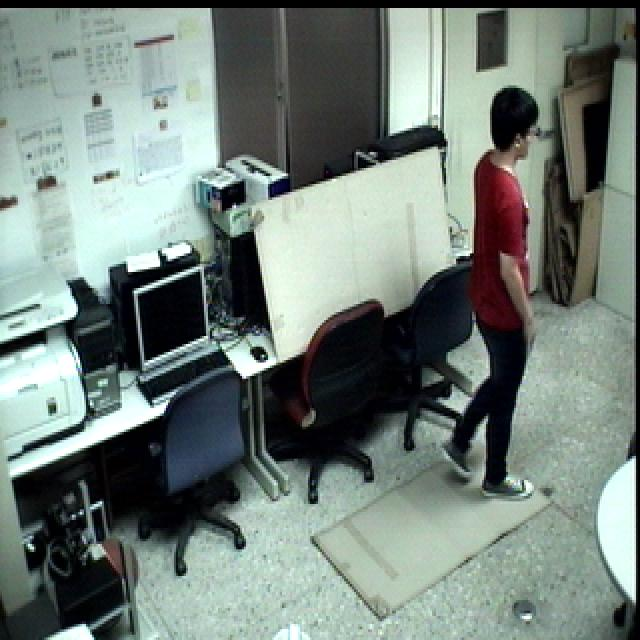stand: (429, 82, 559, 505)
